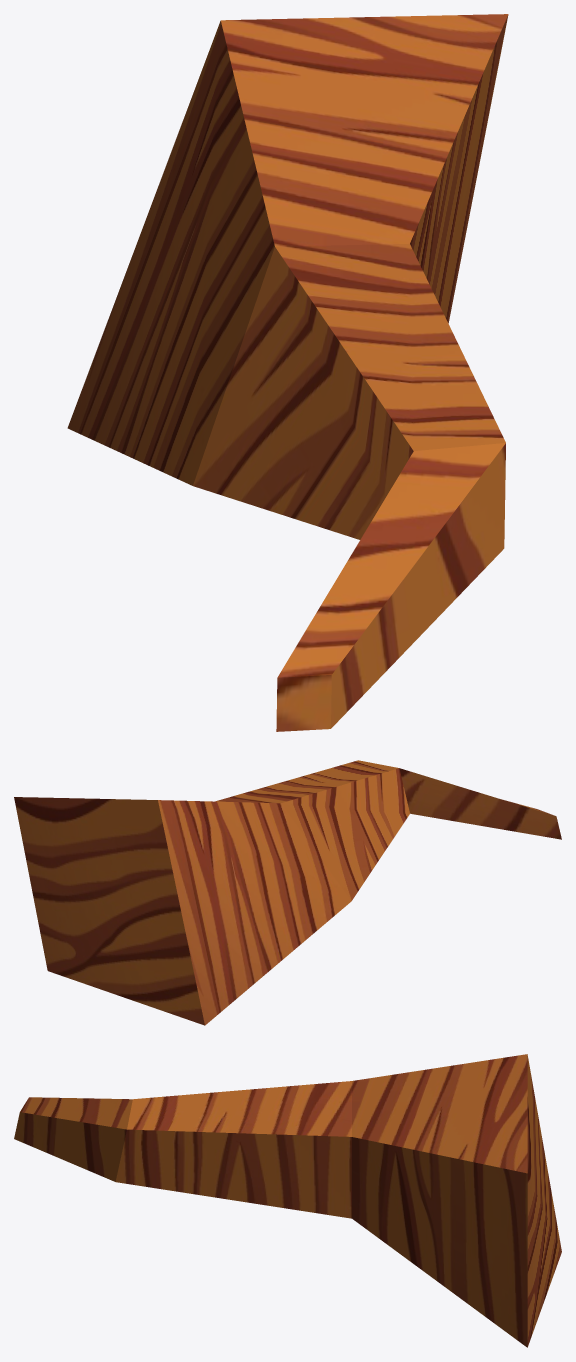
File: Log.fbx
3 renders of one model, top to bottom at view 1: azimuth 30°, elevation 25°; view 2: azimuth 150°, elevation 25°; view 3: azimuth 270°, elevation 25°, orthographic. The views are drawn at different scales.
Visible parts, largest first — view 1: Cube; view 2: Cube; view 3: Cube.
Boxes of the visible parts, <box> form: Cube: <box>67,14,508,731</box>; Cube: <box>14,760,561,1025</box>; Cube: <box>14,1054,561,1347</box>.
Size of the model in its own units: 69.1 by 39.72 by 84.6.
